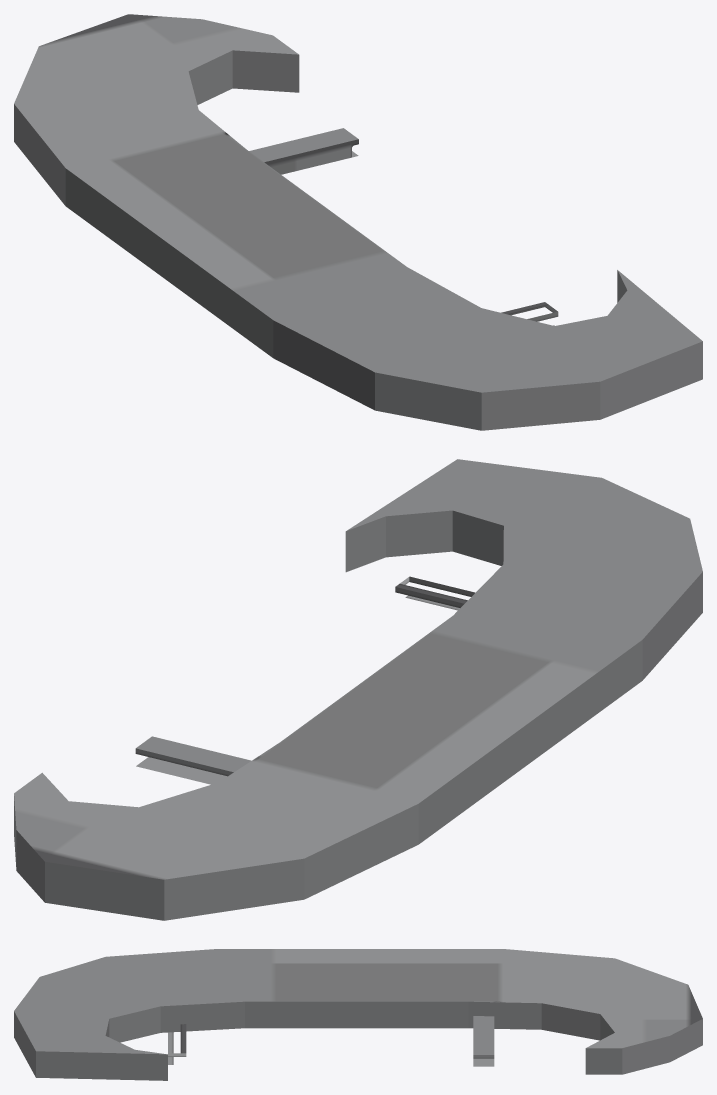
3 views of the same model, one above another, from view 1: azimuth 30°, elevation 25°; view 2: azimuth 150°, elevation 25°; view 3: azimuth 270°, elevation 25° (orthographic). The views are drawn at different scales.
Bounding box in the file's own units: 0.68 × 0.0925 × 1.88.
